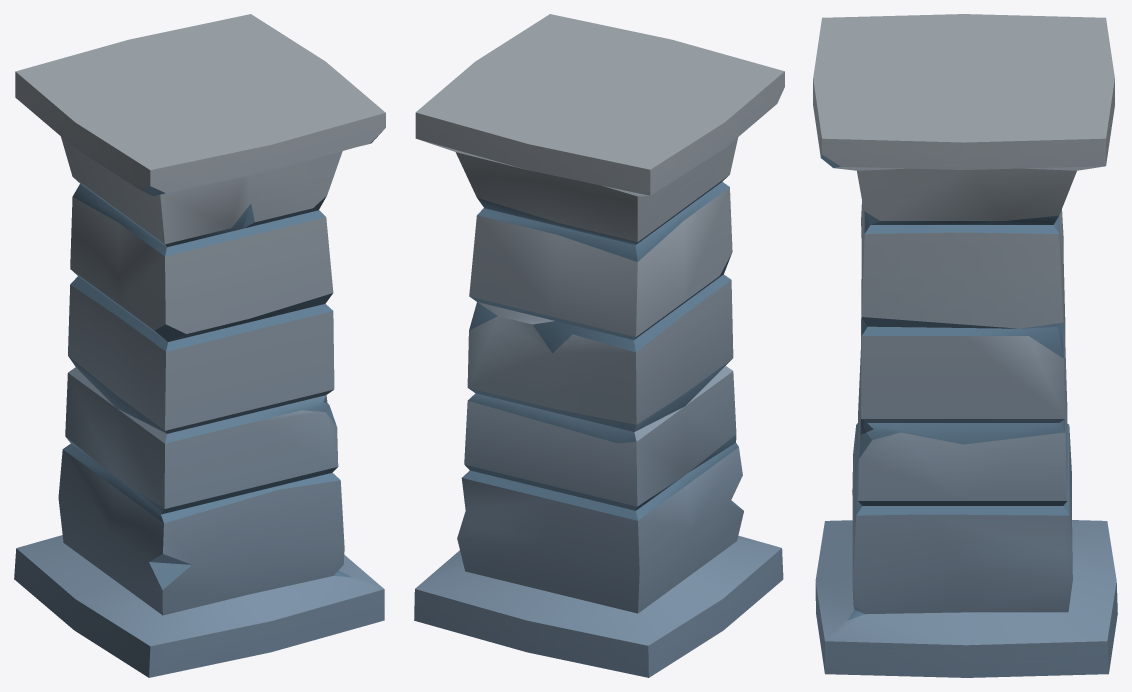
Rendered from Column_01.glb.
3 renders of one model, left to right at view 1: azimuth 30°, elevation 25°; view 2: azimuth 150°, elevation 25°; view 3: azimuth 270°, elevation 25°, orthographic. The views are drawn at different scales.
Parts seen in each view (by area): view 1: Column_01; view 2: Column_01; view 3: Column_01.
Part boxes in pixels (x1,y1,x2,y2): Column_01: [14, 14, 385, 677]; Column_01: [414, 14, 784, 677]; Column_01: [813, 14, 1117, 677].
Size of the model in its own units: 2.17 by 4.2 by 2.17.
1 material, 1 textured.
